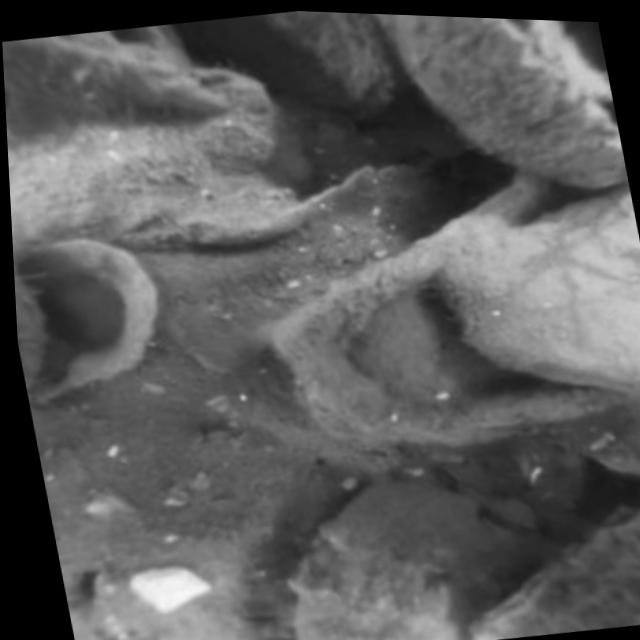Oyster-Indeterminate: (271, 167, 640, 445), (6, 71, 295, 254), (436, 188, 640, 389), (291, 482, 529, 640), (60, 526, 257, 640), (471, 518, 640, 640), (210, 11, 397, 116), (2, 26, 226, 108)
Oyster-Open: (377, 14, 628, 185)
